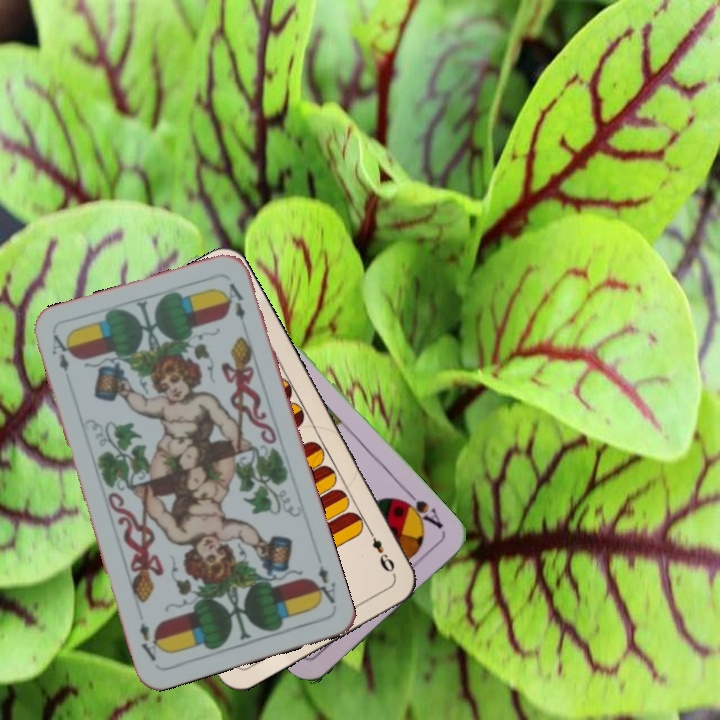E9: (363, 524, 399, 578)
EA: (308, 561, 339, 607), (48, 330, 73, 375)
SA: (395, 486, 446, 532)
